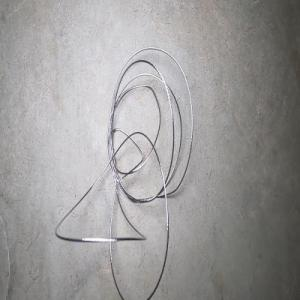Wire: (54, 46, 193, 300)
